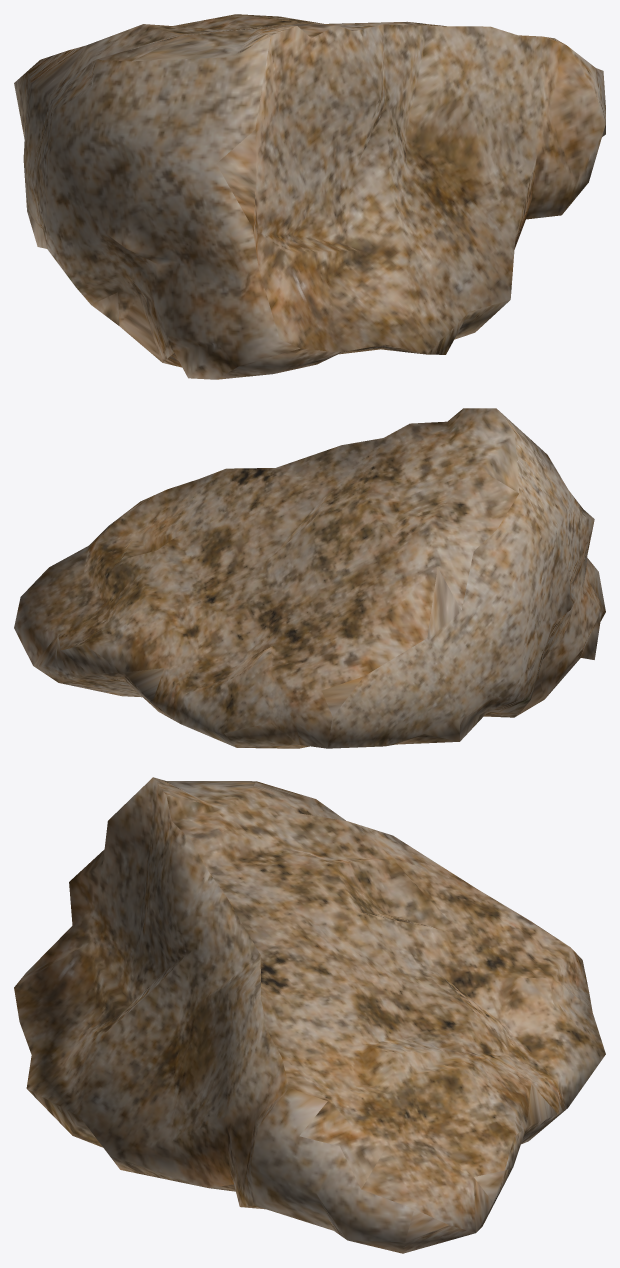
Rendered from nama_pebble_c.glb.
3 renders of one model, top to bottom at view 1: azimuth 30°, elevation 25°; view 2: azimuth 150°, elevation 25°; view 3: azimuth 270°, elevation 25°, orthographic. The views are drawn at different scales.
Parts seen in each view (by area): view 1: nama_pebble_c; view 2: nama_pebble_c; view 3: nama_pebble_c.
Boxes of the visible parts, left/top/right/bottom form: nama_pebble_c: left=14, top=14, right=605, bottom=379; nama_pebble_c: left=14, top=408, right=605, bottom=748; nama_pebble_c: left=14, top=777, right=605, bottom=1253.
Size of the model in its own units: 1.45 by 0.8023 by 1.37.
Materials: 1 (1 with a texture image).
